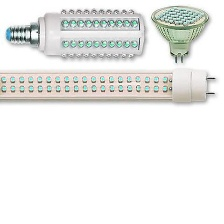light_bulb: (0, 66, 217, 107), (2, 6, 148, 64), (149, 3, 209, 64)
